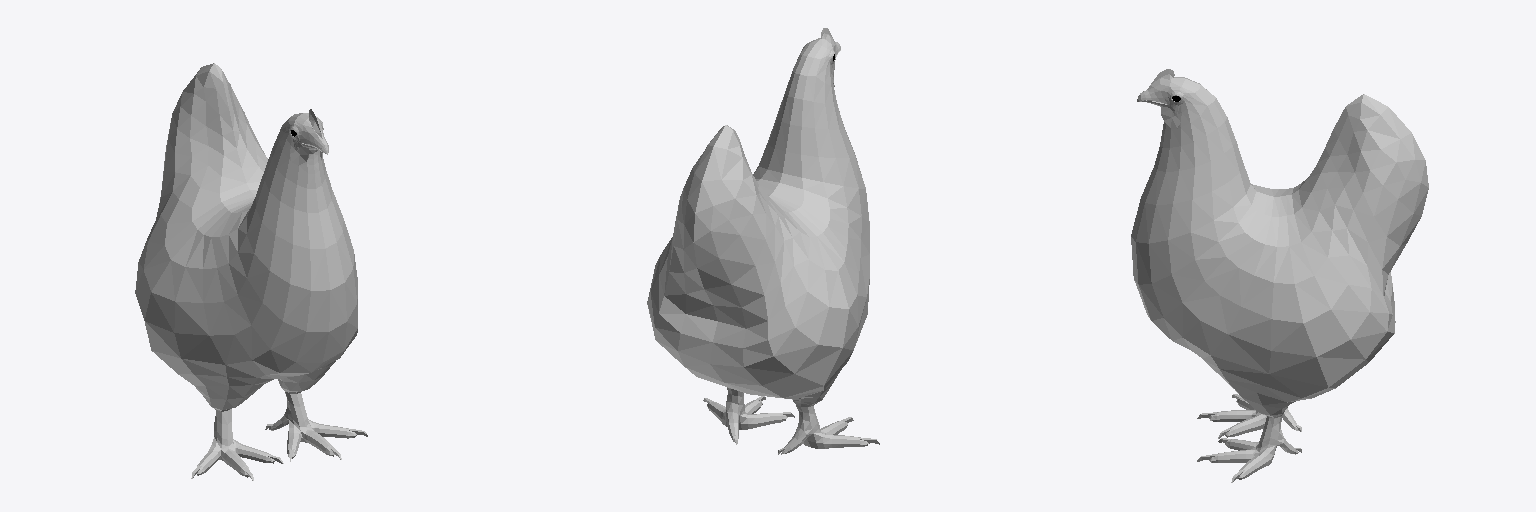
File: chickenV2.obj
The picture shows the model from 3 angles: view 1: azimuth 30°, elevation 25°; view 2: azimuth 150°, elevation 25°; view 3: azimuth 270°, elevation 25°; orthographic projection.
Visible parts, largest first — view 1: Chicken; view 2: Chicken; view 3: Chicken.
Boxes of the visible parts, box(x1,y1,x2,y2) form: Chicken: box(135, 63, 367, 480); Chicken: box(647, 28, 879, 454); Chicken: box(1131, 69, 1428, 482).
Bounding box in the file's own units: 6.58 × 12.66 × 9.12.